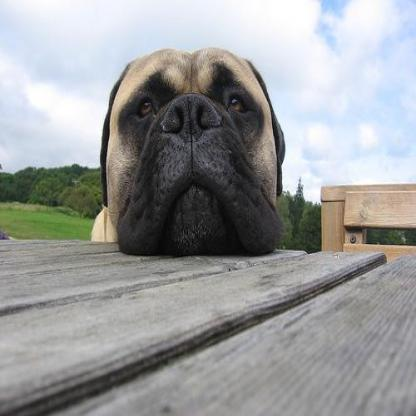bull_mastiff: (92, 44, 284, 252)
